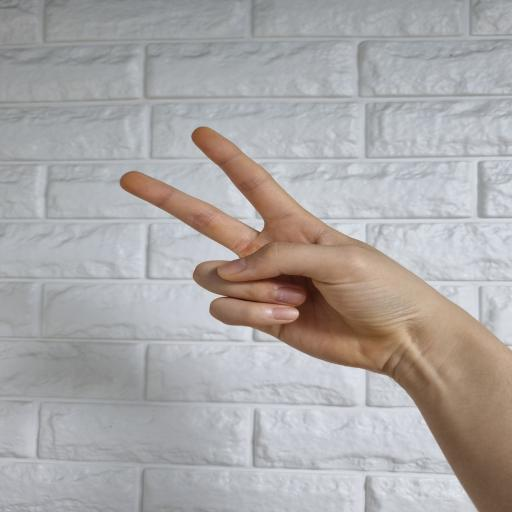Scissors: (112, 125, 512, 512)
